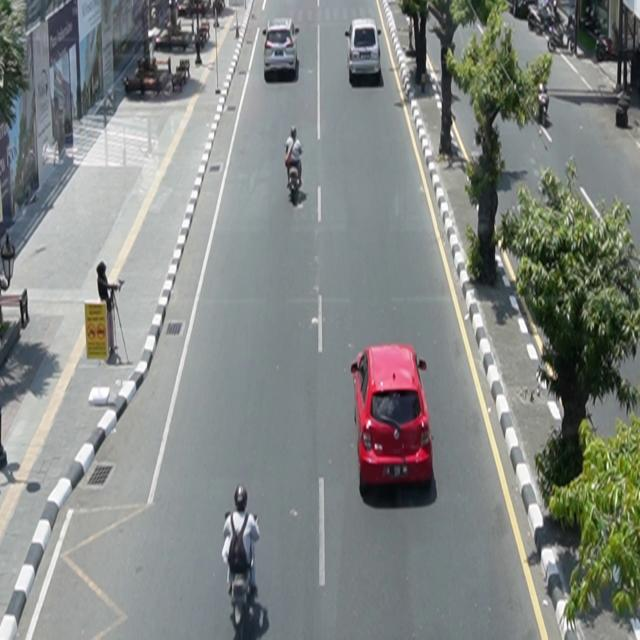car: (352, 344, 435, 495), (345, 18, 383, 83), (264, 18, 300, 82)
